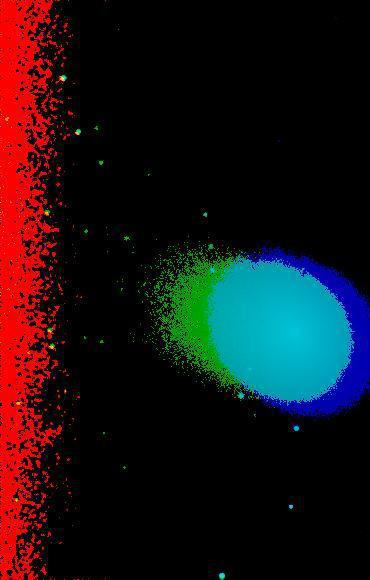star: (209, 363, 239, 393)
